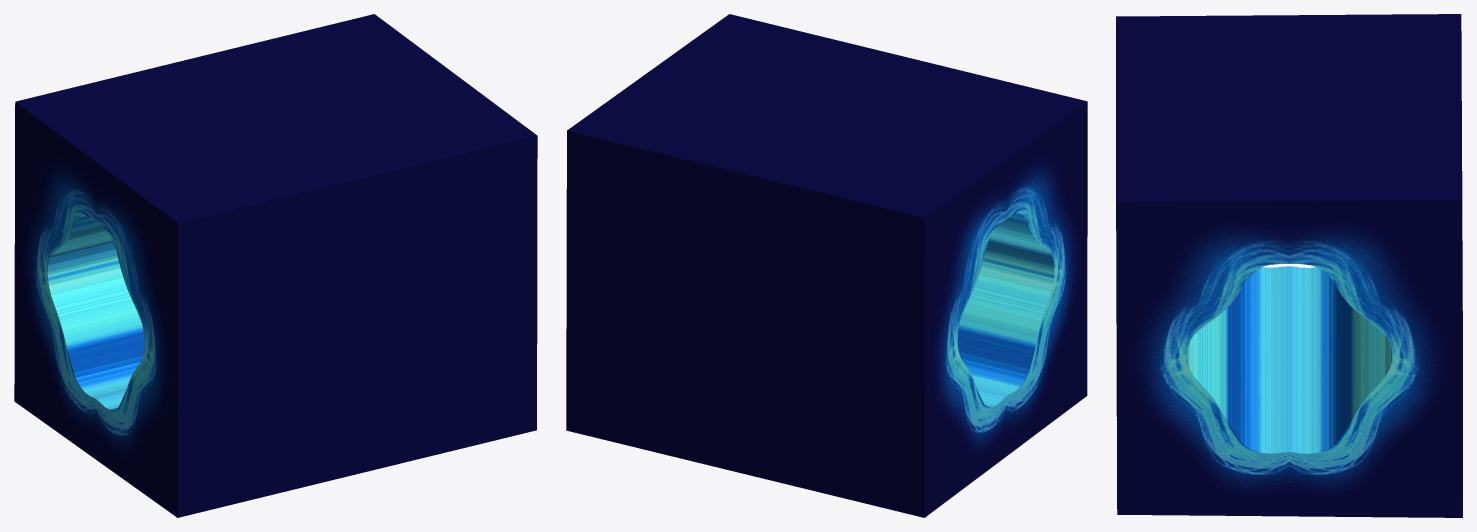
The model's file is caveexit2.fbx.
3 renders of one model, left to right at view 1: azimuth 30°, elevation 25°; view 2: azimuth 150°, elevation 25°; view 3: azimuth 270°, elevation 25°, orthographic. The views are drawn at different scales.
Visible parts, largest first — view 1: caveexit2; view 2: caveexit2; view 3: caveexit2.
Part boxes in pixels (x1,y1,x2,y2): caveexit2: (14,14,537,517); caveexit2: (566,14,1087,517); caveexit2: (1116,14,1462,517).
Size of the model in its own units: 371 by 296 by 292.
